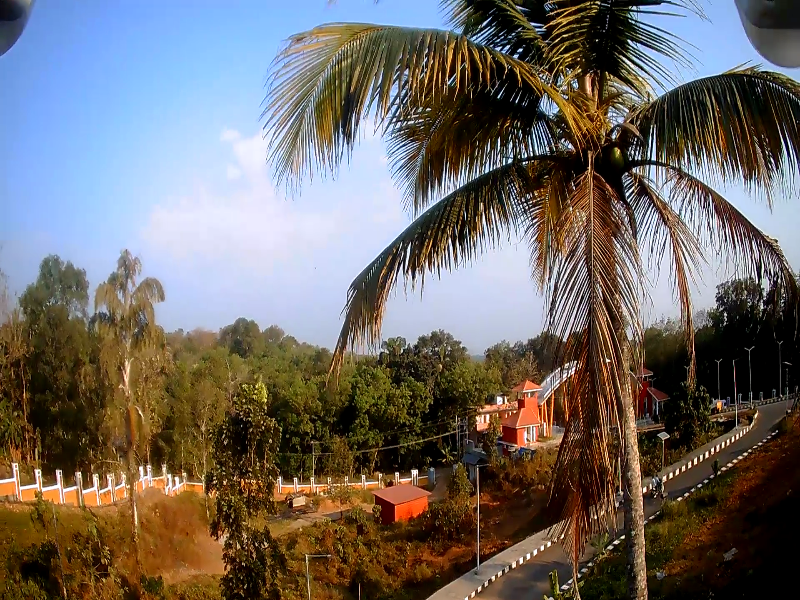coconut: (604, 147, 631, 166)
